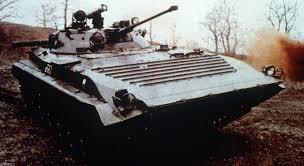tank: (13, 5, 286, 156)
